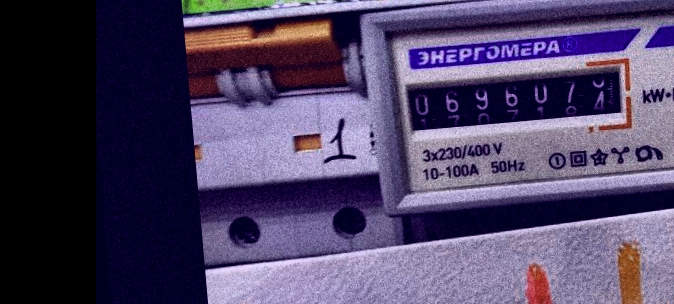0: (413, 91, 432, 116), (532, 78, 549, 105)
4: (590, 88, 608, 113)
6: (443, 88, 462, 113), (502, 82, 521, 107)
7: (562, 78, 579, 105)
9: (473, 85, 491, 111)
screen: (392, 51, 639, 146)
